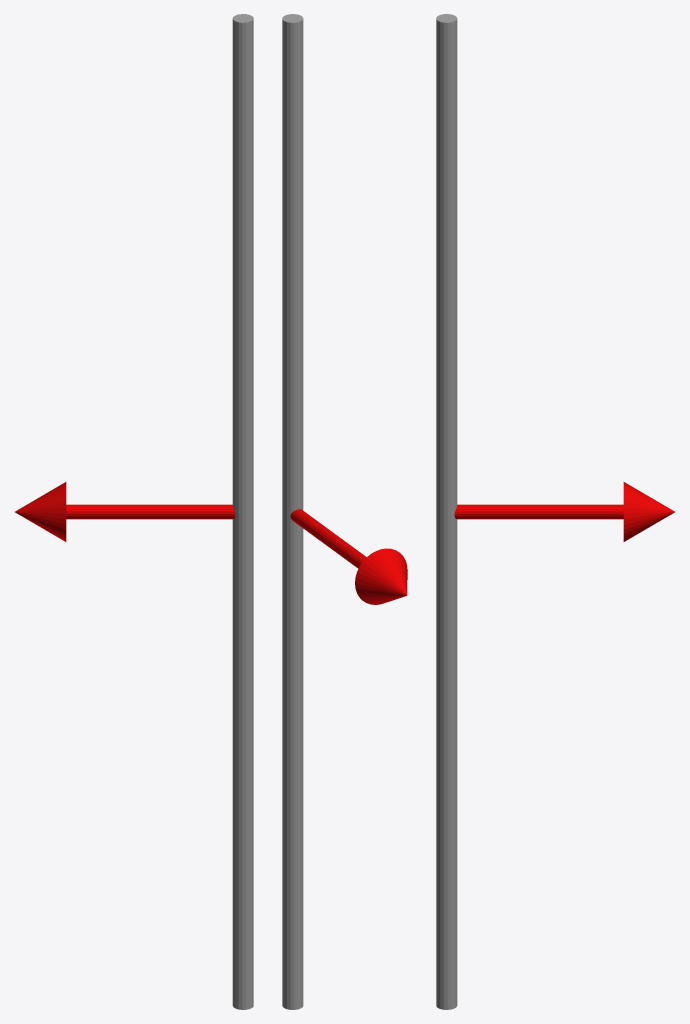
Rendered from BasePole (with arrow) 1.fbx.
The picture shows the model from 3 angles, left to right: view 1: azimuth 90°, elevation 25°; view 2: azimuth 210°, elevation 25°; view 3: azimuth 270°, elevation 25°; orthographic projection.
Visible parts, largest first — view 1: Cylinder; view 2: Cylinder; view 3: Cylinder.
Part boxes in pixels (box(x1,y1,x2,y2)): Cylinder: box(15, 14, 253, 1009); Cylinder: box(282, 14, 407, 1009); Cylinder: box(436, 14, 674, 1009).
Size of the model in its own units: 4.65 by 83.25 by 18.29.
